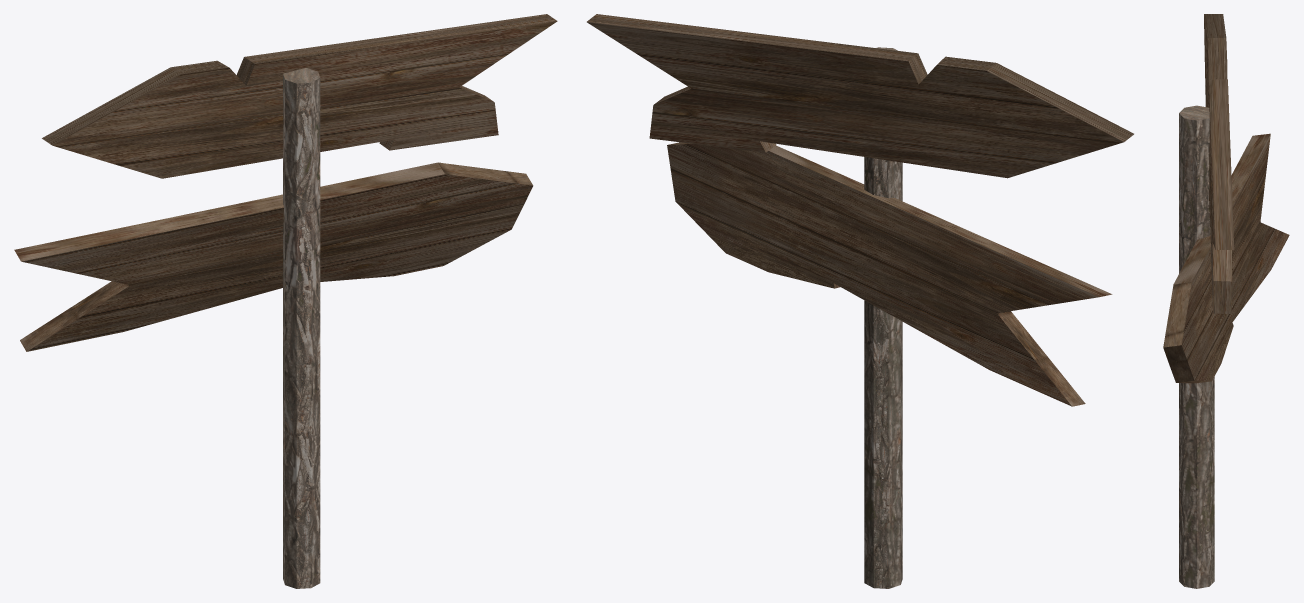
The model's file is CrossroadSign.fbx.
The picture shows the model from 3 angles, left to right: view 1: azimuth 30°, elevation 25°; view 2: azimuth 150°, elevation 25°; view 3: azimuth 270°, elevation 25°; orthographic projection. The views are drawn at different scales.
Parts seen in each view (by area): view 1: ArrowLeft, ArrowRight, Pole; view 2: ArrowRight, ArrowLeft, Pole; view 3: ArrowLeft, Pole, ArrowRight.
Boxes of the visible parts, x1=… form: ArrowLeft: x1=14, y1=162, x2=533, y2=351; ArrowRight: x1=42, y1=14, x2=557, y2=178; Pole: x1=283, y1=68, x2=320, y2=588; ArrowRight: x1=587, y1=14, x2=1133, y2=178; ArrowLeft: x1=667, y1=142, x2=1112, y2=406; Pole: x1=864, y1=47, x2=902, y2=588; ArrowLeft: x1=1163, y1=133, x2=1289, y2=383; Pole: x1=1179, y1=105, x2=1214, y2=588; ArrowRight: x1=1204, y1=14, x2=1234, y2=313.
Size of the model in its own units: 164 by 161 by 37.57.
2 materials, 2 textured.
